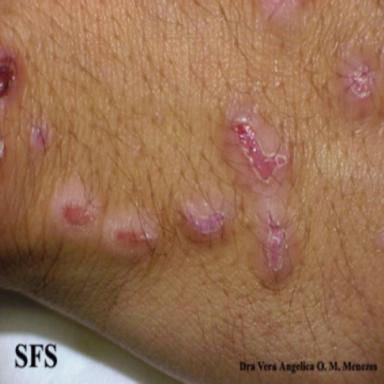Epidermolysis-Bullosa-Pruriginosa: (223, 97, 305, 288), (47, 172, 161, 260), (328, 46, 384, 122), (179, 195, 227, 244), (255, 2, 306, 31), (29, 119, 55, 153), (0, 46, 14, 97)
